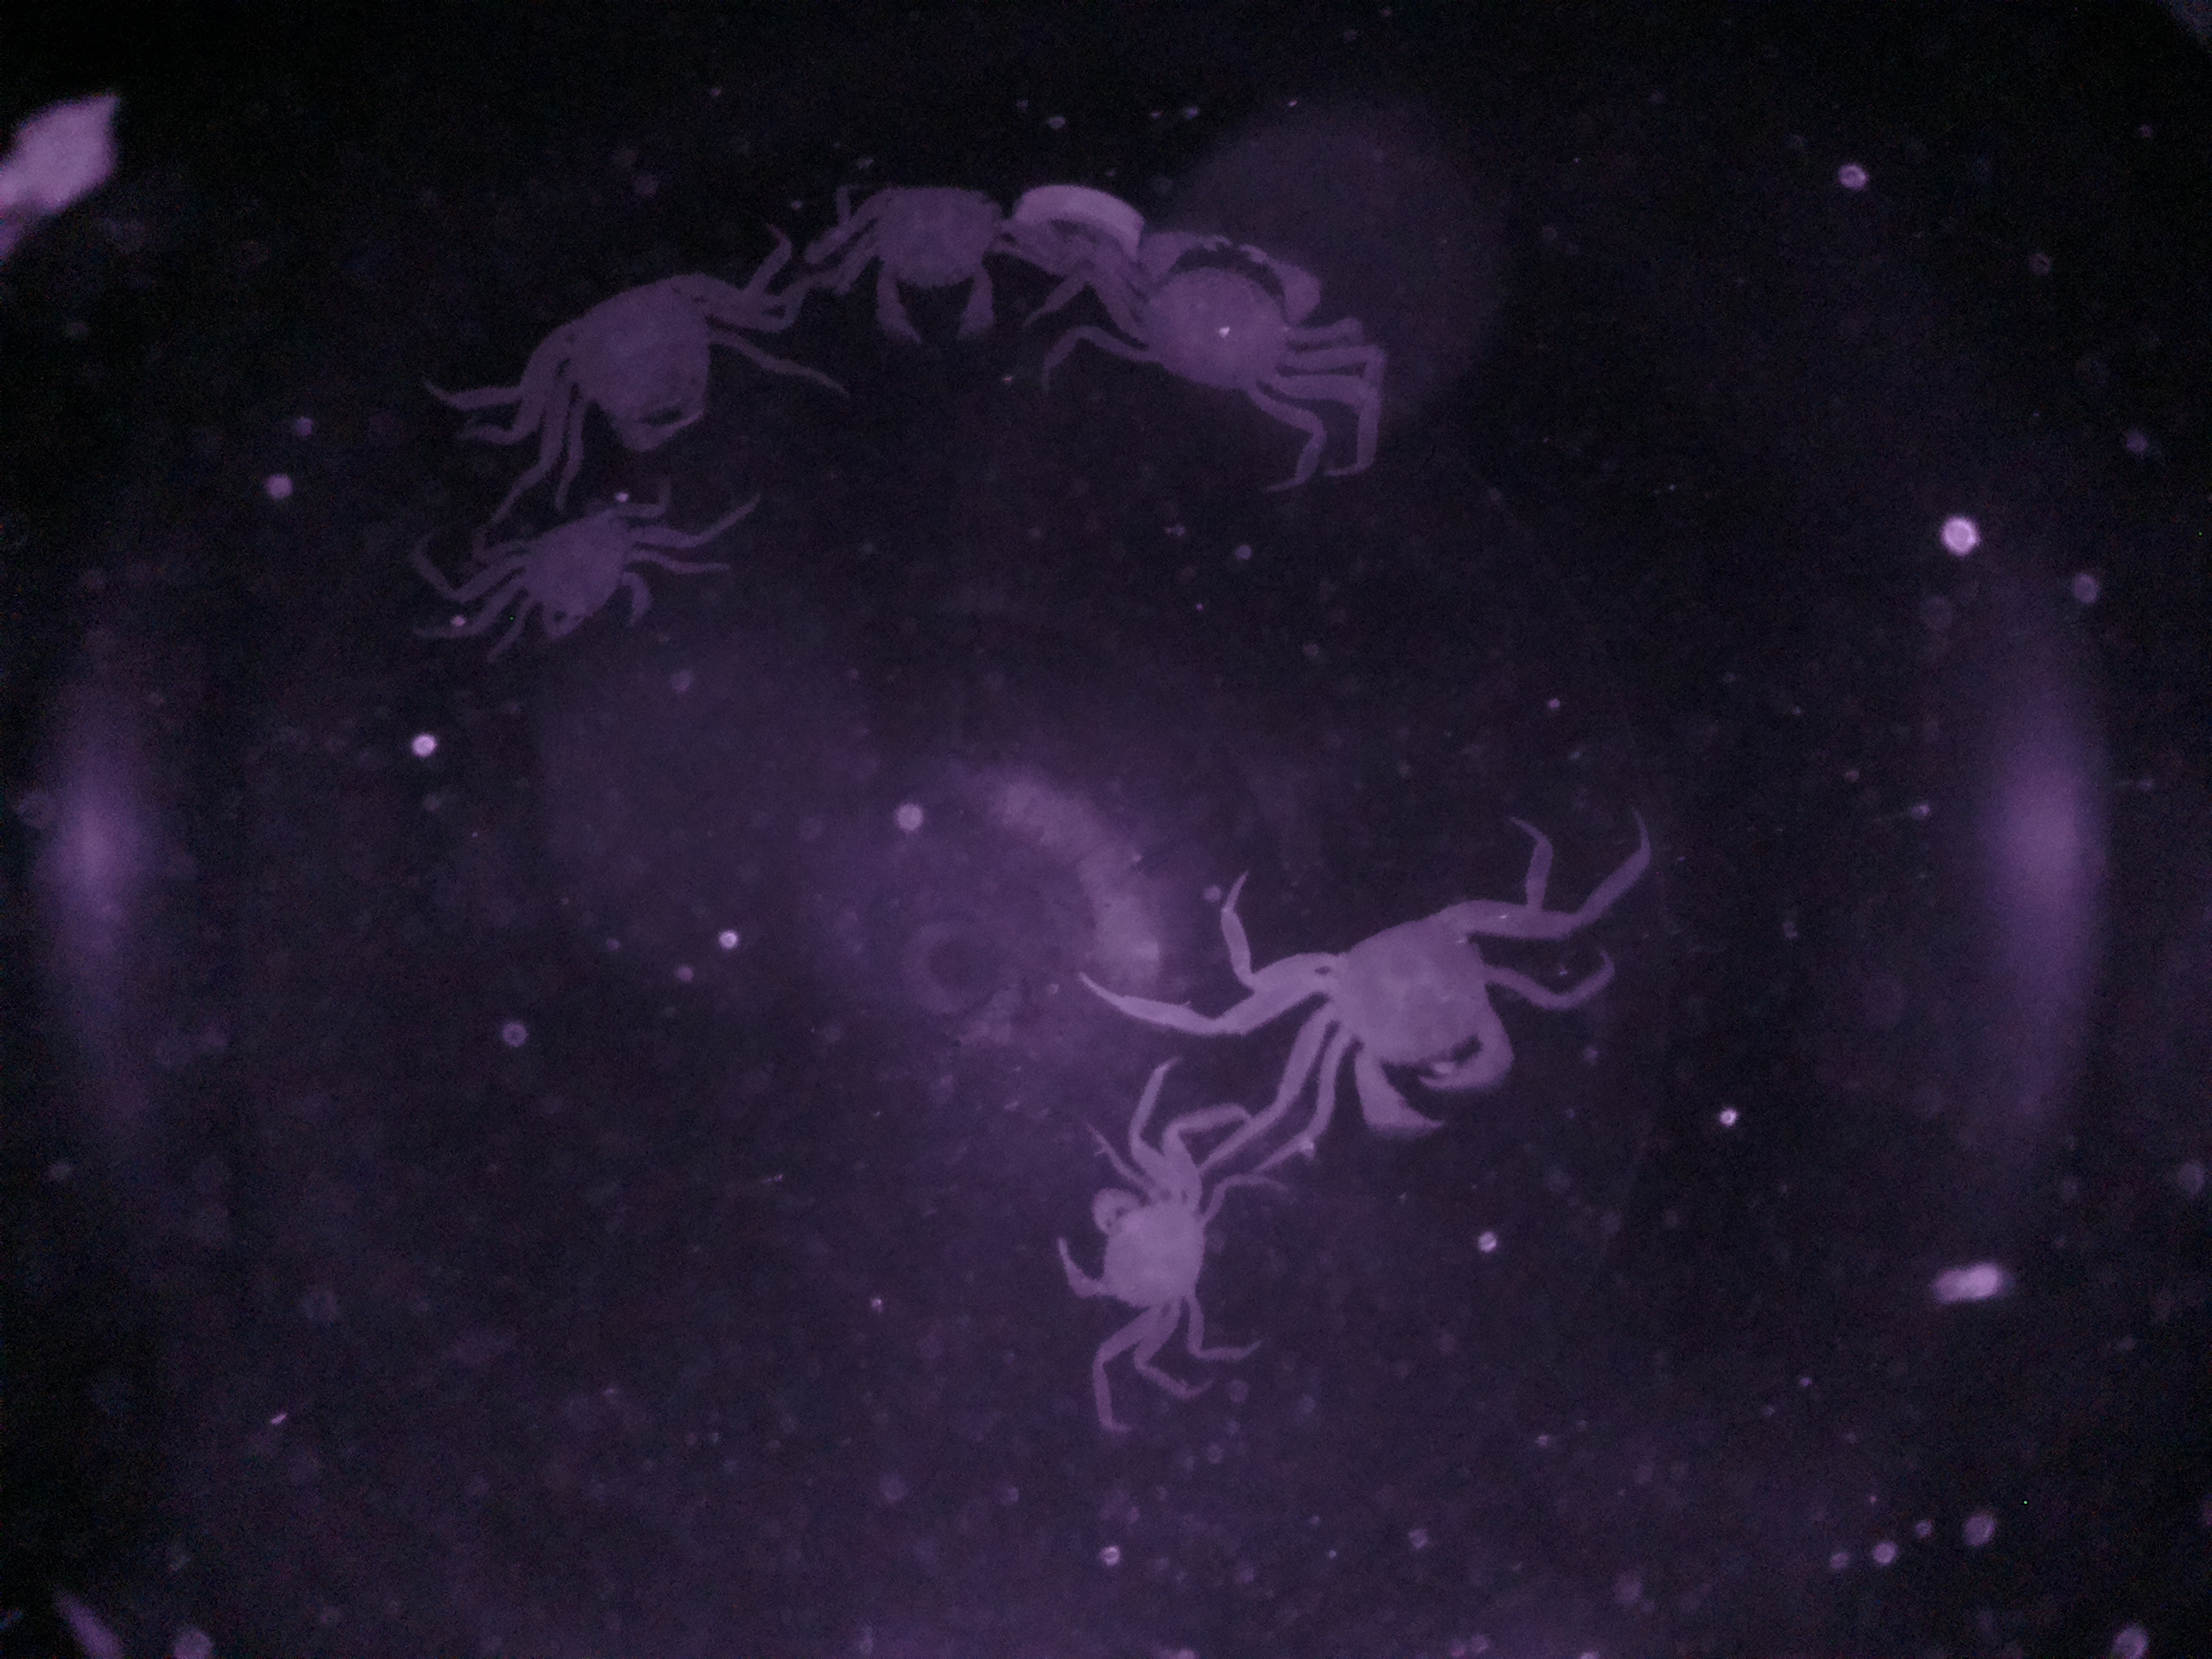Crab: (1214, 880, 1550, 1154), (1087, 214, 1352, 430), (1029, 1093, 1226, 1378), (536, 253, 784, 471), (441, 490, 705, 671), (819, 169, 1024, 364)
